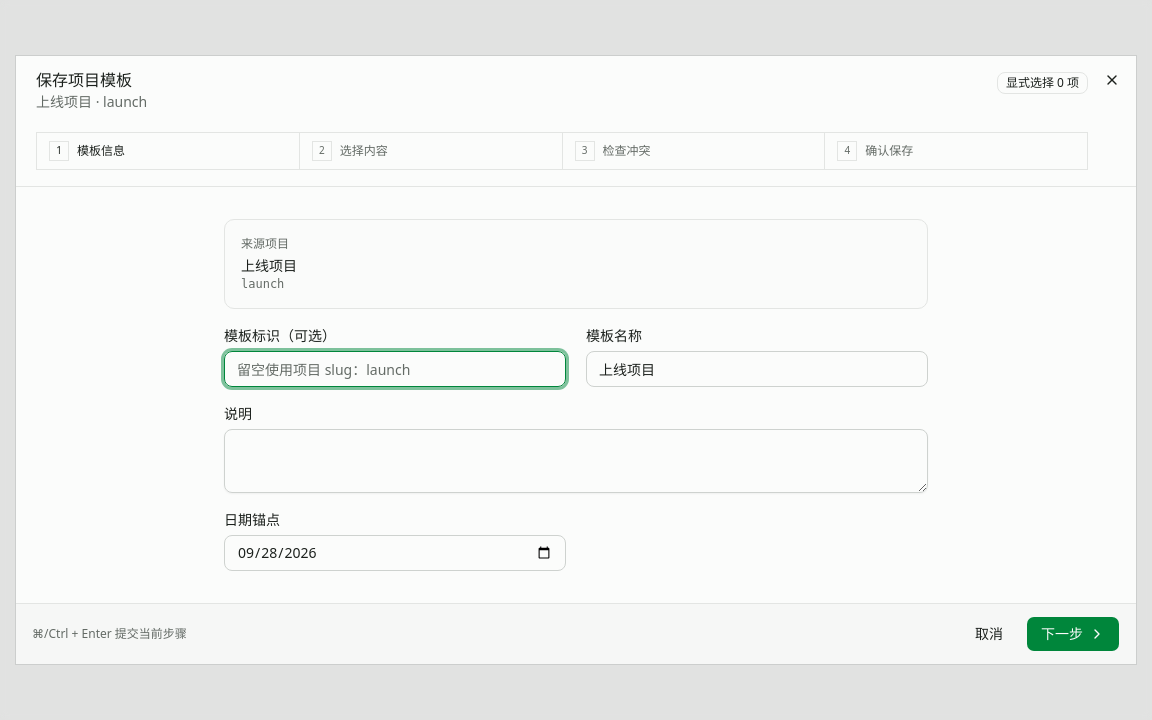
Test: ProjectTemplateCaptureWizard › merges asynchronous defaults with manual selection without exceeding a component limit
The width and height of the screenshot is (1152, 720).
Click the button "下一步" at (1073,634), box [1026,616,1120,652]
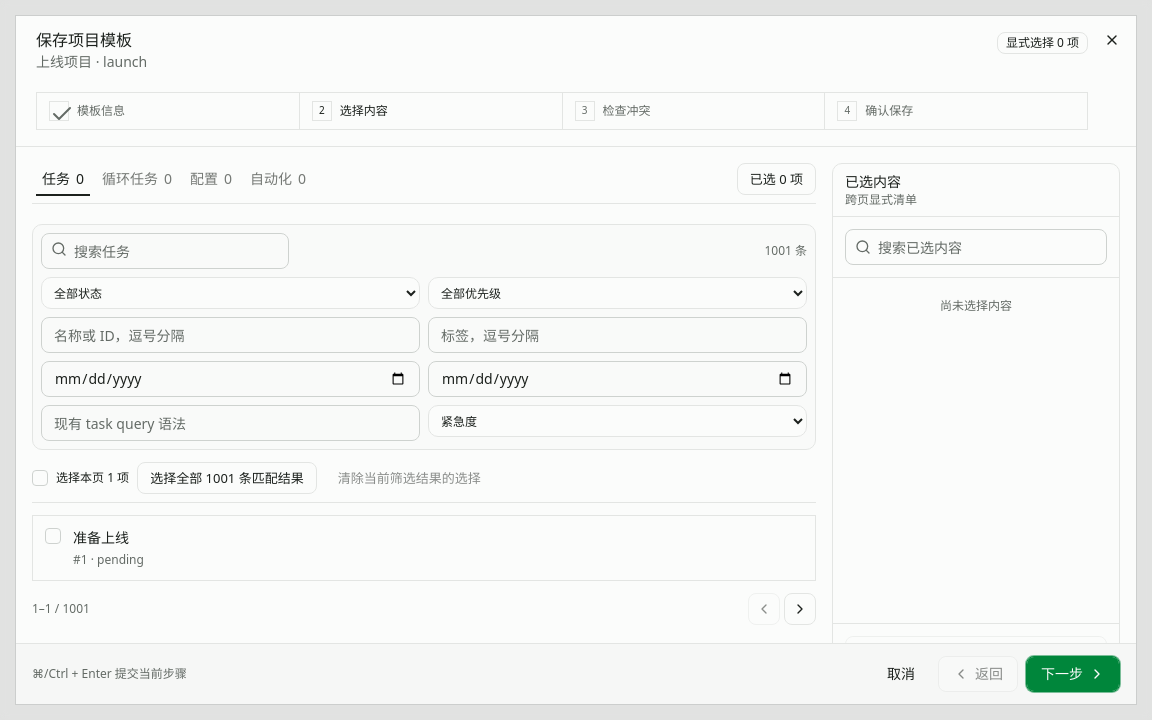
Check: the tab "任务 0" is shown, box [35,166,91,192]
Click the checkbox named "准备上线" at (53,536), box [45,528,61,544]
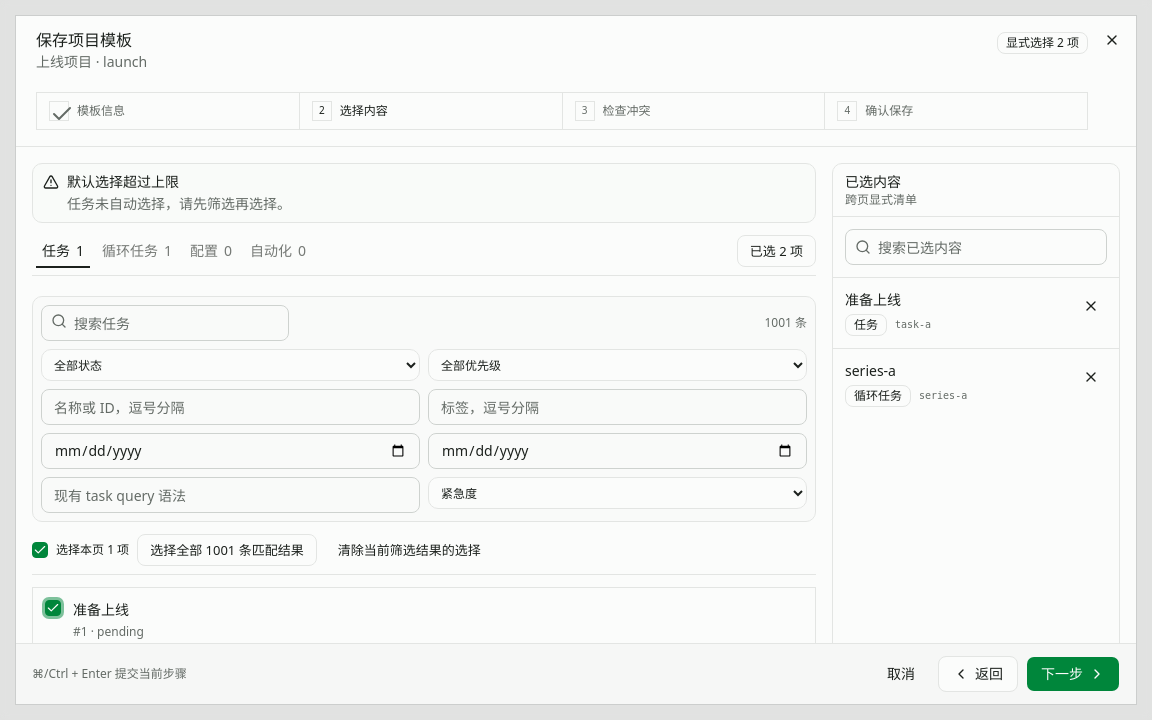
Check: the tab named "任务1" is shown, box [35,238,91,264]
Check: the tab named "循环任务1" is shown, box [95,238,179,264]
Check: the text "任务未自动选择，请先筛选再选择。" is shown, box [67,194,291,213]
